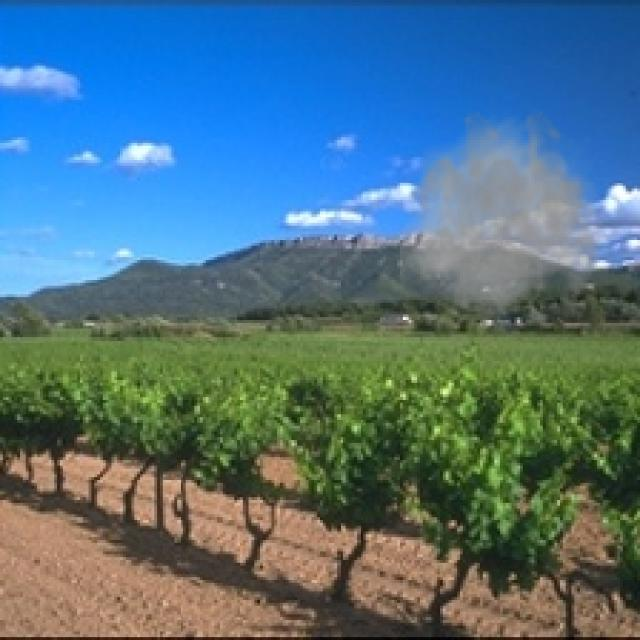smoke: (400, 106, 617, 326)
